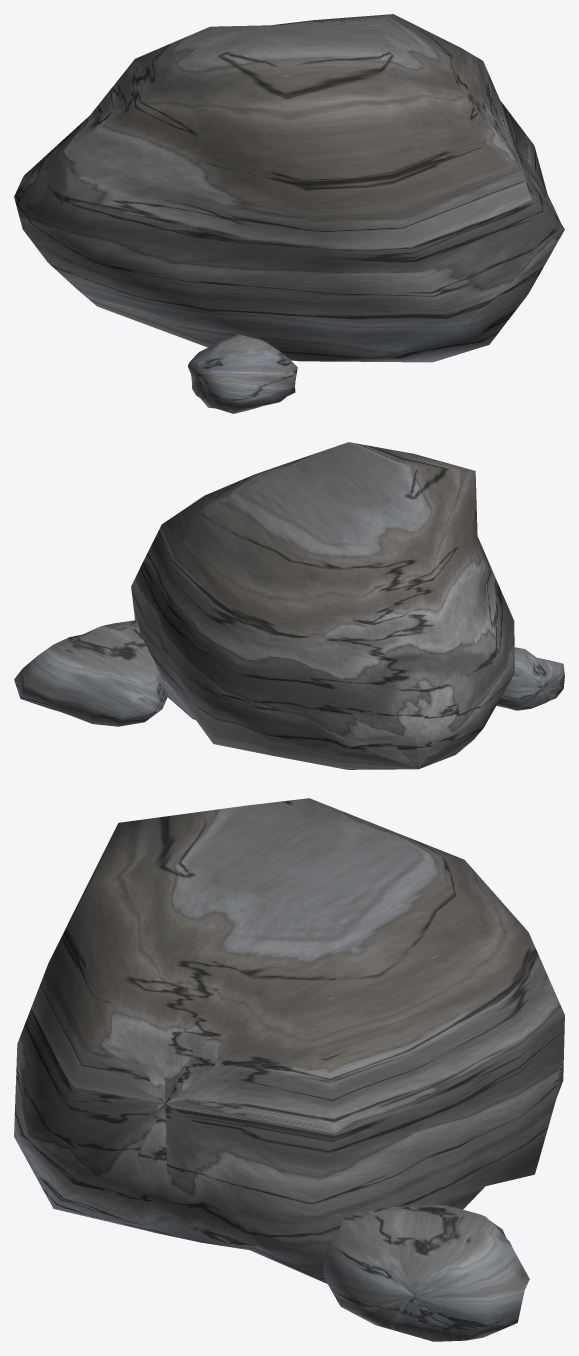
Rendered from rock_boulder_l0.gltf.
3 renders of one model, top to bottom at view 1: azimuth 30°, elevation 25°; view 2: azimuth 150°, elevation 25°; view 3: azimuth 270°, elevation 25°, orthographic. The views are drawn at different scales.
Parts seen in each view (by area): view 1: rock_boulder_l0; view 2: rock_boulder_l0; view 3: rock_boulder_l0.
Part boxes in pixels (<box>): rock_boulder_l0: <box>14,14,564,413</box>; rock_boulder_l0: <box>14,442,564,769</box>; rock_boulder_l0: <box>14,798,564,1341</box>.
Size of the model in its own units: 2.35 by 1.23 by 1.79.
Materials: 1 (1 with a texture image).
